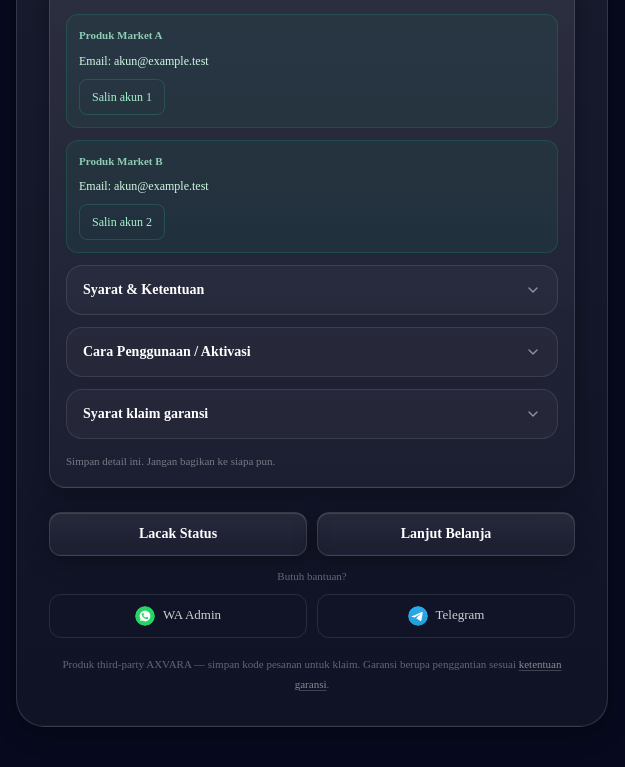
Market warranty claim guidance › shows one collapsed claim accordion inside the account card or below delivery for paid stok sendiri orders
(page scrolled)
Click the button "Syarat klaim garansi": [146, 414] box x1=67 y1=390 x2=557 y2=438
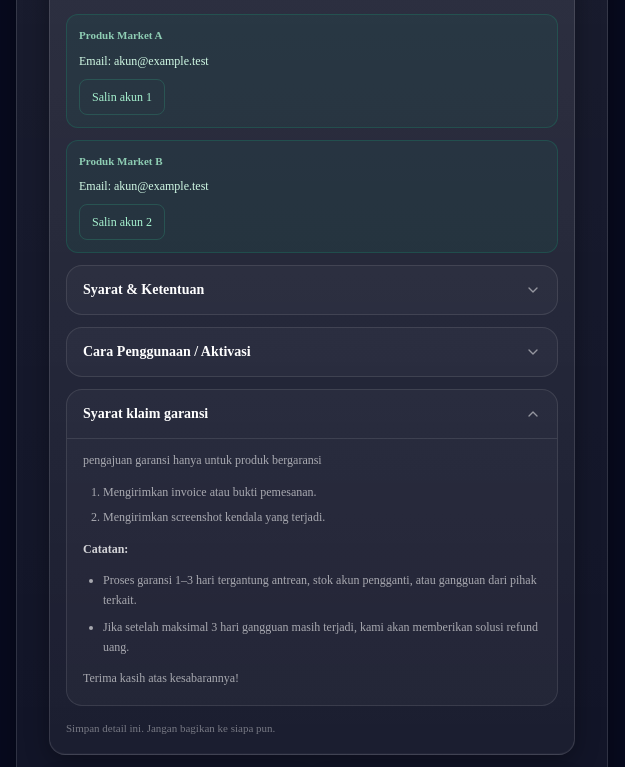
Now the button "Syarat klaim garansi" is expanded, box x1=67 y1=390 x2=557 y2=438
Now the list item "Mengirimkan invoice atau bukti pemesanan." is shown, box x1=103 y1=485 x2=317 y2=499
Now the list item "Mengirimkan screenshot kendala yang terjadi." is shown, box x1=103 y1=510 x2=325 y2=524
